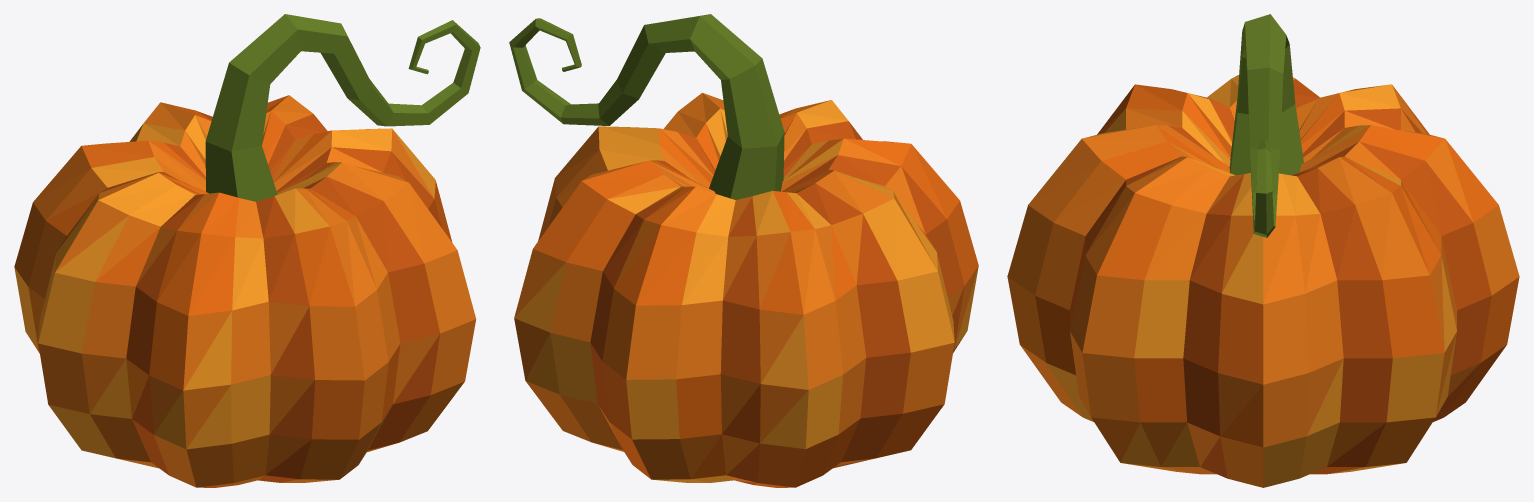
Rendered from Pumpkin.glb.
The picture shows the model from 3 angles, left to right: view 1: azimuth 30°, elevation 25°; view 2: azimuth 150°, elevation 25°; view 3: azimuth 270°, elevation 25°; orthographic projection. The views are drawn at different scales.
Parts seen in each view (by area): view 1: Pumpkin; view 2: Pumpkin; view 3: Pumpkin.
Boxes of the visible parts, x1,y1,x2,y2 form: Pumpkin: (14, 14, 480, 487); Pumpkin: (509, 14, 978, 487); Pumpkin: (1007, 14, 1519, 487).
Size of the model in its own units: 0.4 by 0.3582 by 0.3751.
